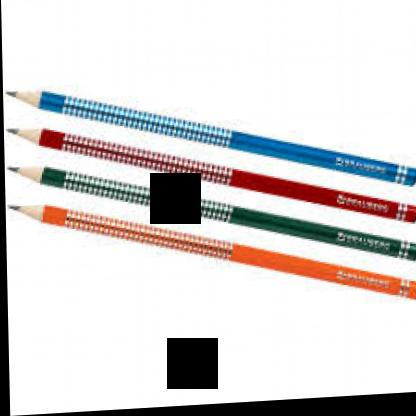pencil: (2, 86, 416, 197), (4, 160, 416, 271), (4, 127, 416, 233), (4, 203, 416, 309)
